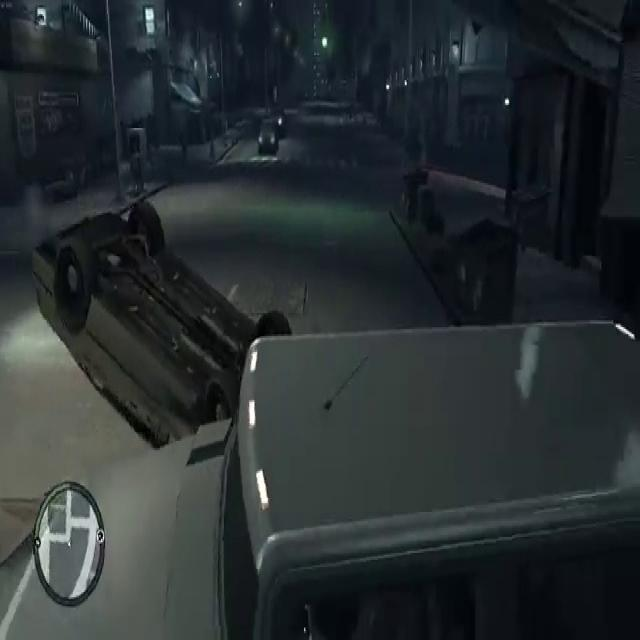severe: (23, 184, 291, 466)
